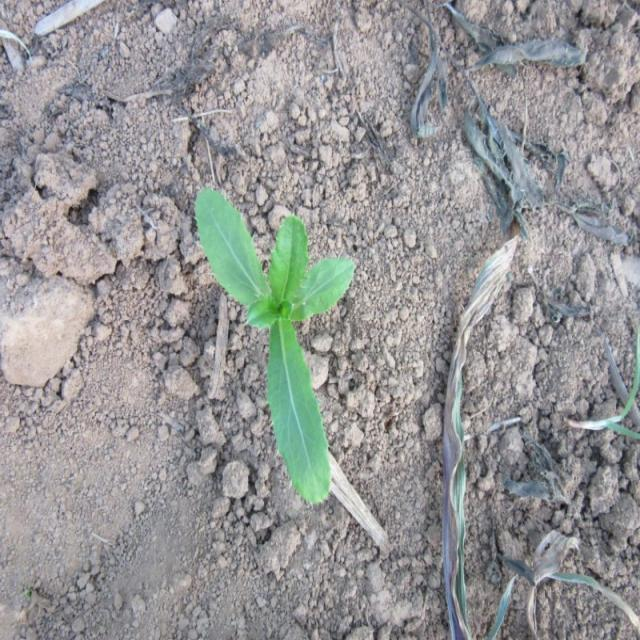cs: (194, 184, 358, 509)
